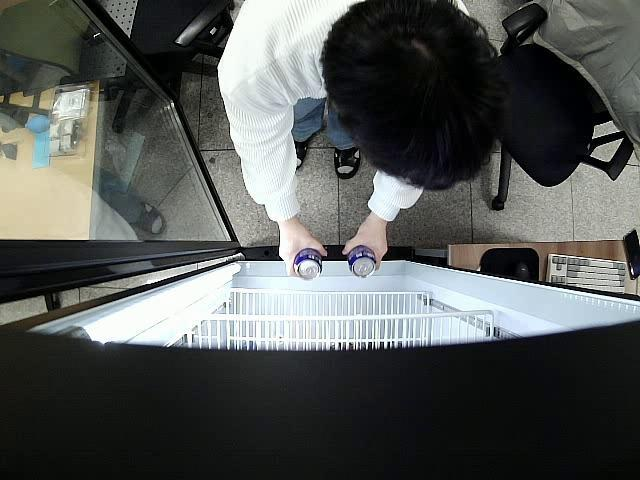14_welchsGrape: (348, 244, 376, 278), (293, 250, 322, 282)
